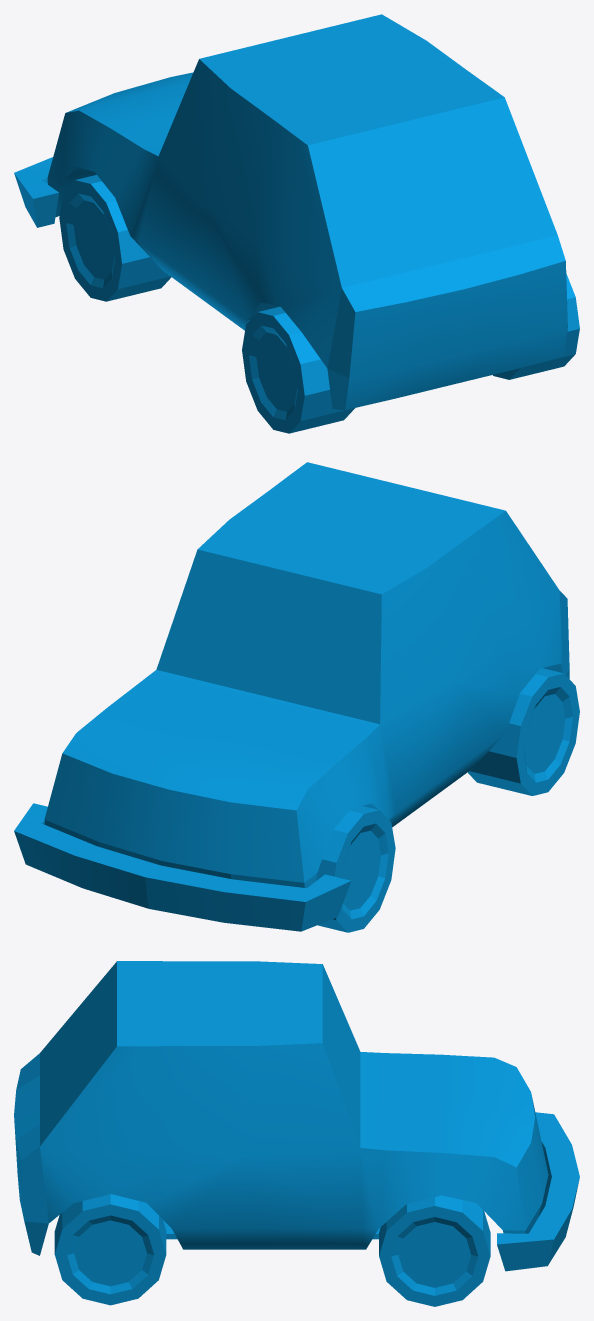
The model's file is Car_Bridge.fbx.
3 renders of one model, top to bottom at view 1: azimuth 30°, elevation 25°; view 2: azimuth 150°, elevation 25°; view 3: azimuth 270°, elevation 25°, orthographic. The views are drawn at different scales.
Parts seen in each view (by area): view 1: Car_Bridge; view 2: Car_Bridge; view 3: Car_Bridge.
Part boxes in pixels (x1,y1,x2,y2): Car_Bridge: (14,14,579,433); Car_Bridge: (14,462,579,932); Car_Bridge: (14,961,579,1306).
Size of the model in its own units: 6.25 by 5.2 by 10.95.
